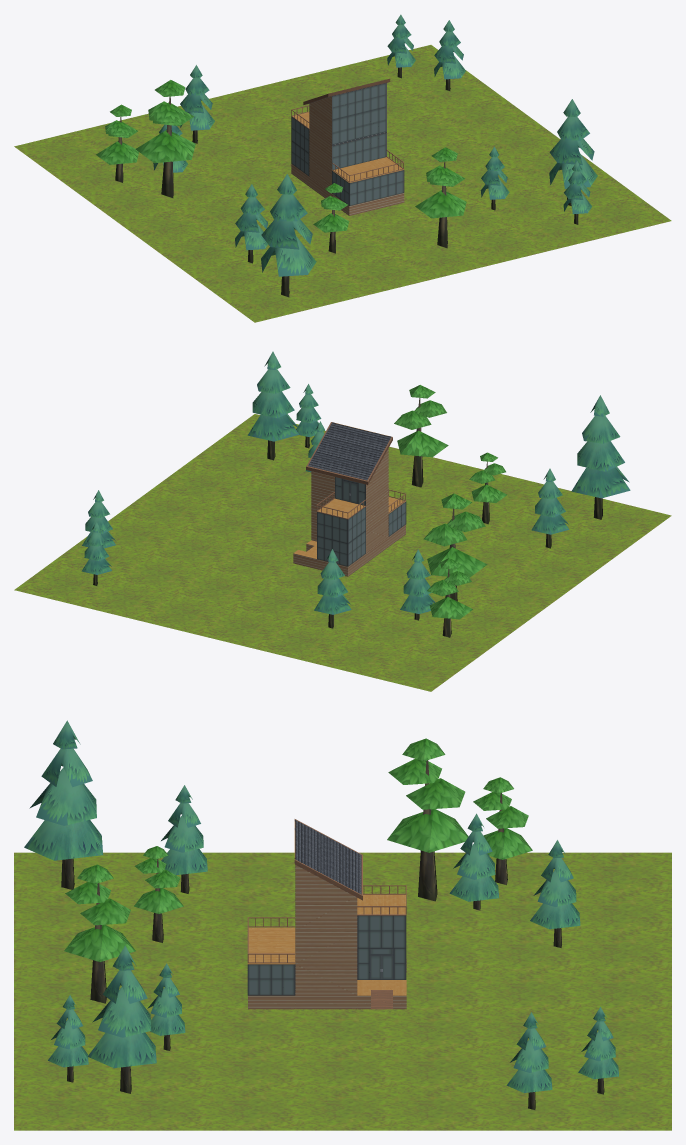
File: zhuzhai_lingjiangtaibiesu01_lod.FBX
3 views of the same model, one above another, from view 1: azimuth 30°, elevation 25°; view 2: azimuth 150°, elevation 25°; view 3: azimuth 270°, elevation 25° (orthographic). The views are drawn at different scales.
Parts seen in each view (by area): view 1: caodi, shu, zhuzhai_lingjiangtaibiesu01_lod; view 2: caodi, shu, zhuzhai_lingjiangtaibiesu01_lod; view 3: caodi, shu, zhuzhai_lingjiangtaibiesu01_lod.
Boxes of the visible parts, box(x1,y1,x2,y2) form: caodi: box(14, 45, 671, 322); shu: box(96, 14, 597, 297); zhuzhai_lingjiangtaibiesu01_lod: box(291, 78, 404, 215); caodi: box(14, 414, 671, 691); shu: box(81, 351, 630, 637); zhuzhai_lingjiangtaibiesu01_lod: box(293, 422, 406, 576); caodi: box(14, 852, 671, 1130); shu: box(24, 720, 618, 1109); zhuzhai_lingjiangtaibiesu01_lod: box(247, 819, 406, 1009).
Size of the model in its own units: 6400 by 1902 by 6400.
